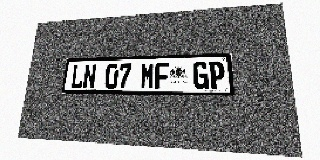0: (104, 64, 119, 89)
7: (117, 63, 132, 89)
F: (155, 62, 169, 89)
G: (193, 61, 209, 89)
L: (70, 64, 85, 89)
M: (140, 63, 155, 89)
N: (82, 64, 97, 89)
P: (208, 61, 225, 89)
